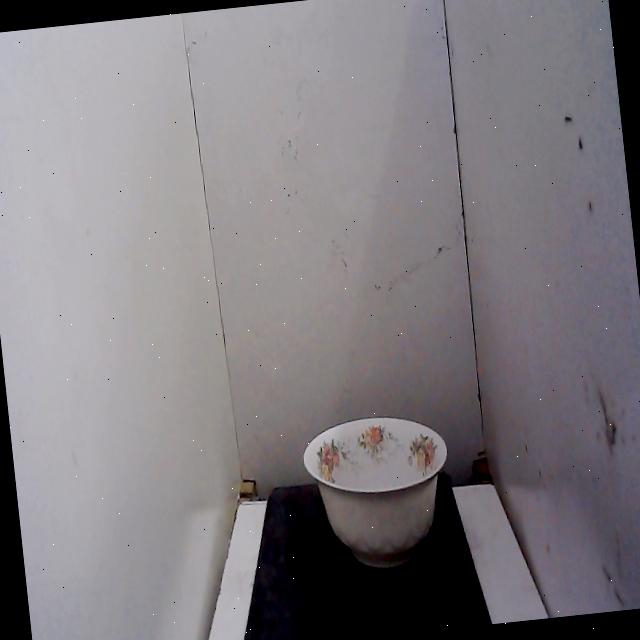plastico: (287, 366, 469, 595)
